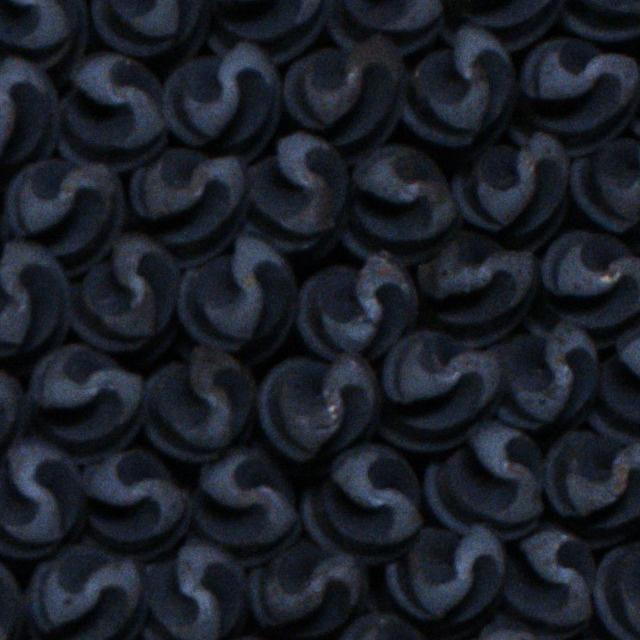tool_b: (504, 35, 640, 156), (283, 30, 405, 163), (177, 234, 300, 365), (401, 22, 519, 152), (66, 232, 180, 366), (376, 328, 499, 450), (159, 40, 279, 162), (298, 443, 421, 562), (19, 347, 142, 465), (257, 354, 381, 471), (338, 146, 458, 266), (424, 422, 546, 540), (385, 523, 508, 639), (130, 149, 249, 268), (3, 158, 123, 276), (454, 133, 572, 252), (416, 232, 538, 347), (240, 134, 346, 265), (521, 230, 639, 347), (143, 346, 258, 464), (483, 315, 598, 431), (54, 55, 168, 172), (297, 249, 418, 359), (192, 447, 302, 565), (82, 448, 192, 560), (23, 540, 144, 640), (250, 538, 369, 639), (544, 430, 640, 547), (140, 538, 248, 640), (502, 525, 597, 639), (1, 438, 88, 558), (571, 114, 640, 251), (0, 240, 68, 364), (89, 0, 210, 67), (205, 0, 329, 64), (0, 0, 87, 87), (0, 58, 56, 188), (321, 0, 445, 53), (590, 316, 640, 442), (437, 0, 563, 48), (594, 538, 640, 640), (0, 342, 25, 480), (558, 0, 640, 42), (306, 616, 434, 640), (0, 539, 24, 640)
